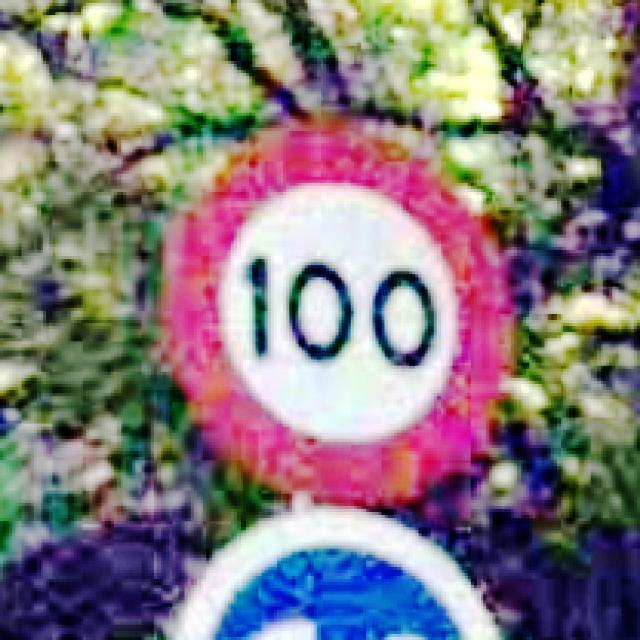max100: (154, 113, 517, 503)
